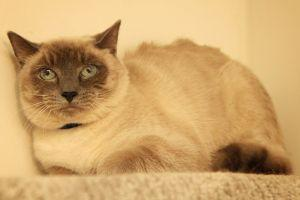siamese: (5, 13, 127, 138)
